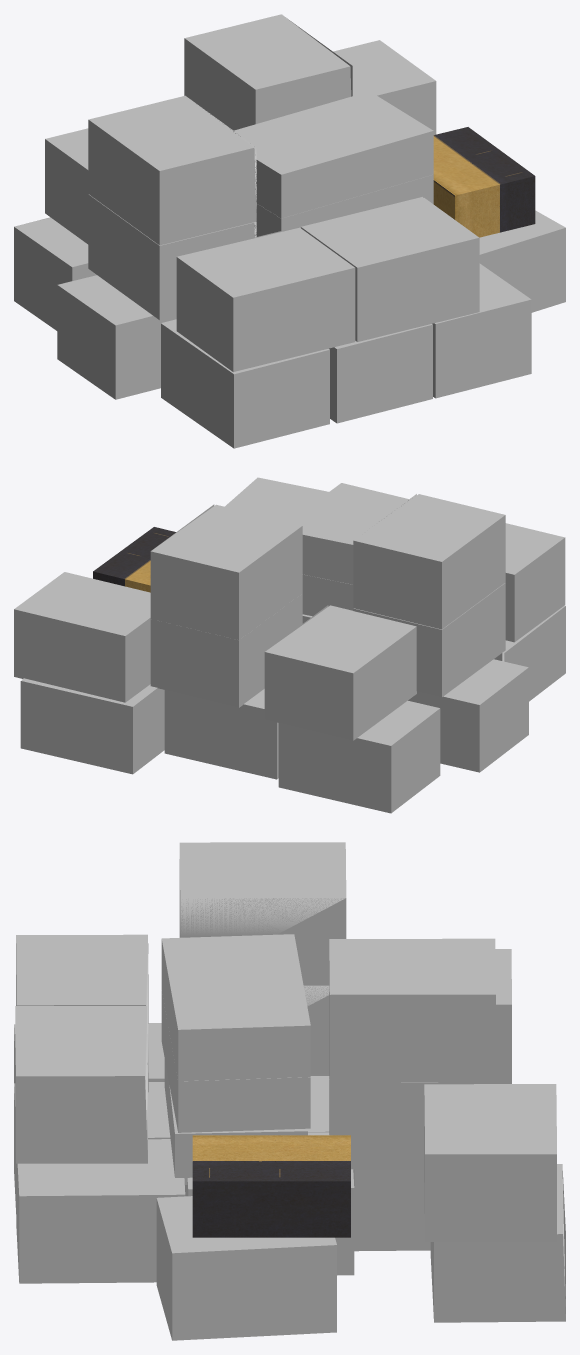
File: aws_robomaker_warehouse_ClutteringA_01_visual.DAE
3 renders of one model, top to bottom at view 1: azimuth 30°, elevation 25°; view 2: azimuth 150°, elevation 25°; view 3: azimuth 270°, elevation 25°, orthographic. The views are drawn at different scales.
Parts seen in each view (by area): view 1: aws_robomaker_warehouse_ClutteringA_01_visual; view 2: aws_robomaker_warehouse_ClutteringA_01_visual; view 3: aws_robomaker_warehouse_ClutteringA_01_visual.
Boxes of the visible parts, <box> form: aws_robomaker_warehouse_ClutteringA_01_visual: <box>14,14,565,448</box>; aws_robomaker_warehouse_ClutteringA_01_visual: <box>14,477,565,813</box>; aws_robomaker_warehouse_ClutteringA_01_visual: <box>14,842,565,1340</box>.
Size of the model in its own units: 215 by 198 by 106.
